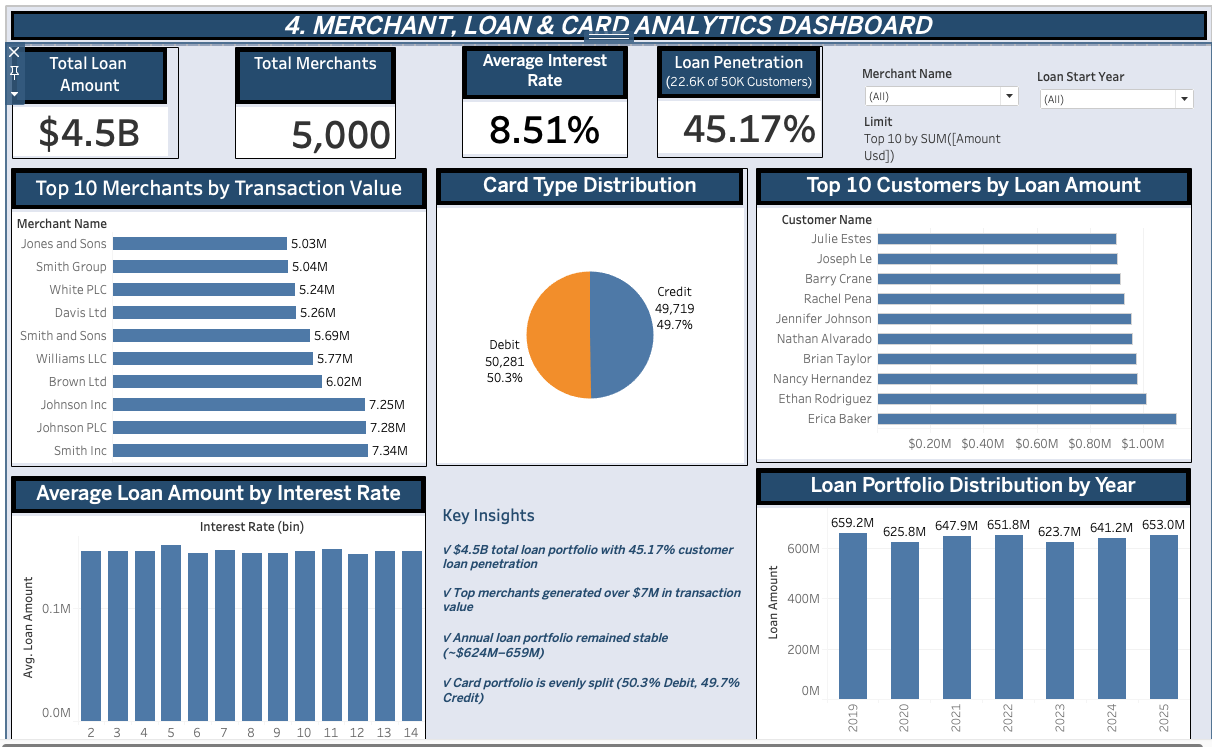

The page's visual inventory and layout, read from the dashboard file:
{"tool":"tableau","page":{"name":"DASHBOARD 4. MERCHANT, LOAN & CARD ANALYTICS","canvas":[1220,800],"ordinal":3},"visuals":[{"type":"title","box":[8,8,1204,37]},{"type":"worksheet","title":"25.KPI – Average Interest Rate","mark":"Automatic","box":[463,47,166,112]},{"type":"worksheet","title":"27.KPI_Loan Penetration","mark":"Automatic","box":[658,47,166,112]},{"type":"worksheet","title":"6.KPI_Total_Loan_Amount","mark":"Text","box":[13,48,167,112]},{"type":"worksheet","title":"26.KPI_Total Merchants","mark":"Automatic","box":[236,48,161,112]},{"type":"filter","title":"28.CH_Top_10_Merchants_by_Transaction_Value","param":"[federated.0l0uwan0u13drs14cdgol1eprp4j].[none:merchant_name:nk]","box":[863,66,160,103]},{"type":"filter","title":"31.CH_Loan Portfolio Distribution by Year","param":"[federated.0l0uwan0u13drs14cdgol1eprp4j].[none:Loan_Start_Year:ok]","box":[1038,69,160,44]},{"type":"worksheet","title":"28.CH_Top_10_Merchants_by_Transaction_Value","mark":"Bar","rows":["merchant_name"],"cols":["amount_usd"],"box":[12,169,416,299]},{"type":"worksheet","title":"30.CH_Card Type Distribution","mark":"Pie","box":[437,169,312,298]},{"type":"worksheet","title":"29.CH_op 10 Customers by Loan Amount","mark":"Bar","rows":["Calculation_178595895554805777"],"cols":["loan_amount"],"box":[757,169,436,295]},{"type":"worksheet","title":"31.CH_Loan Portfolio Distribution by Year","mark":"Bar","rows":["loan_amount"],"cols":["Loan_Start_Year"],"box":[757,469,435,272]},{"type":"worksheet","title":"32.CH_Average Loan Amount by Interest Rate","mark":"Bar","rows":["loan_amount"],"cols":["Interest Rate (bin)"],"box":[12,477,415,267]},{"type":"text","box":[441,477,304,264]}]}

Visuals, with their boxes on the page's 1220x800 design canvas (x1, y1, x2, y2). These are canvas units, not pixel positions in the 1212x747 screenshot, which may show the page scaled, cropped or inside an application window:
title: x1=8, y1=8, x2=1212, y2=45
"25.KPI – Average Interest Rate" worksheet: x1=463, y1=47, x2=629, y2=159
"27.KPI_Loan Penetration" worksheet: x1=658, y1=47, x2=824, y2=159
"6.KPI_Total_Loan_Amount" worksheet (Text marks): x1=13, y1=48, x2=180, y2=160
"26.KPI_Total Merchants" worksheet: x1=236, y1=48, x2=397, y2=160
"28.CH_Top_10_Merchants_by_Transaction_Value" filter: x1=863, y1=66, x2=1023, y2=169
"31.CH_Loan Portfolio Distribution by Year" filter: x1=1038, y1=69, x2=1198, y2=113
"28.CH_Top_10_Merchants_by_Transaction_Value" worksheet (Bar marks): x1=12, y1=169, x2=428, y2=468
"30.CH_Card Type Distribution" worksheet (Pie marks): x1=437, y1=169, x2=749, y2=467
"29.CH_op 10 Customers by Loan Amount" worksheet (Bar marks): x1=757, y1=169, x2=1193, y2=464
"31.CH_Loan Portfolio Distribution by Year" worksheet (Bar marks): x1=757, y1=469, x2=1192, y2=741
"32.CH_Average Loan Amount by Interest Rate" worksheet (Bar marks): x1=12, y1=477, x2=427, y2=744
text: x1=441, y1=477, x2=745, y2=741
